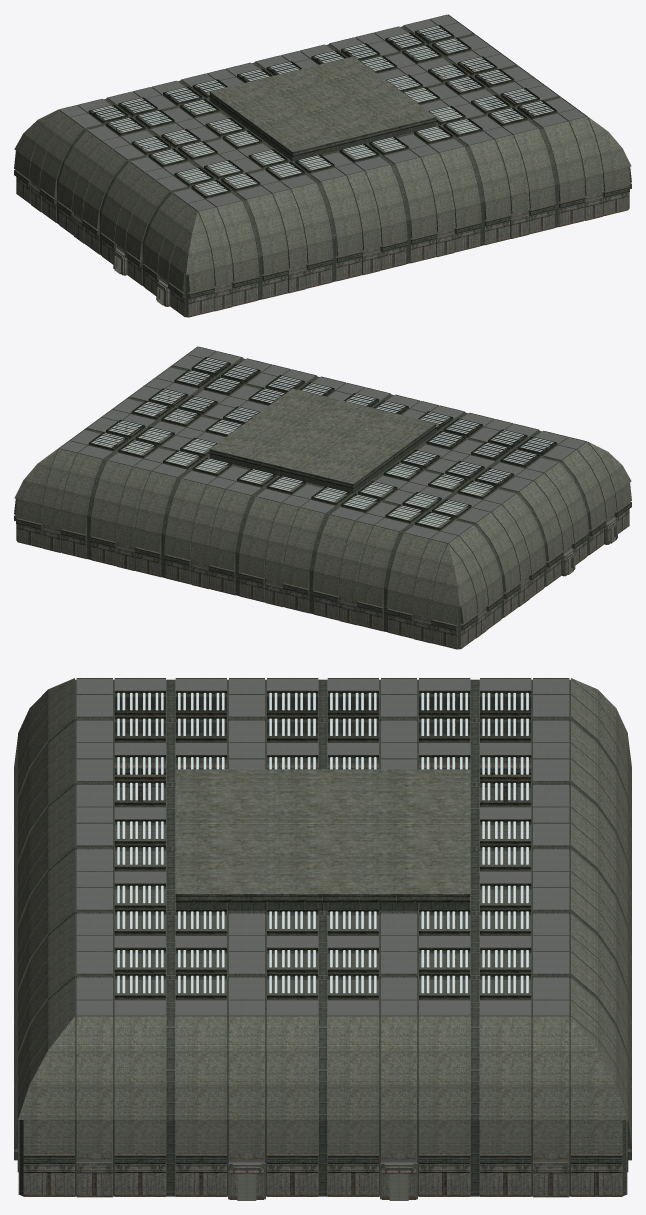
File: poi_all_impl_bunker_crimelord_retreat_s01_r38_arena_mesh_r38.fbx
3 renders of one model, top to bottom at view 1: azimuth 30°, elevation 25°; view 2: azimuth 150°, elevation 25°; view 3: azimuth 270°, elevation 25°, orthographic. The views are drawn at different scales.
Visible parts, largest first — view 1: mesh_node; view 2: mesh_node; view 3: mesh_node.
Part boxes in pixels (left/top/right/bottom): mesh_node: left=14, top=14, right=631, bottom=317; mesh_node: left=14, top=346, right=631, bottom=649; mesh_node: left=14, top=678, right=631, bottom=1200.
Bounding box in the file's own units: 98 × 20 × 65.
